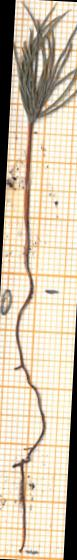flower: (8, 0, 77, 127)
root: (0, 289, 57, 554)
stem: (14, 126, 47, 289)
